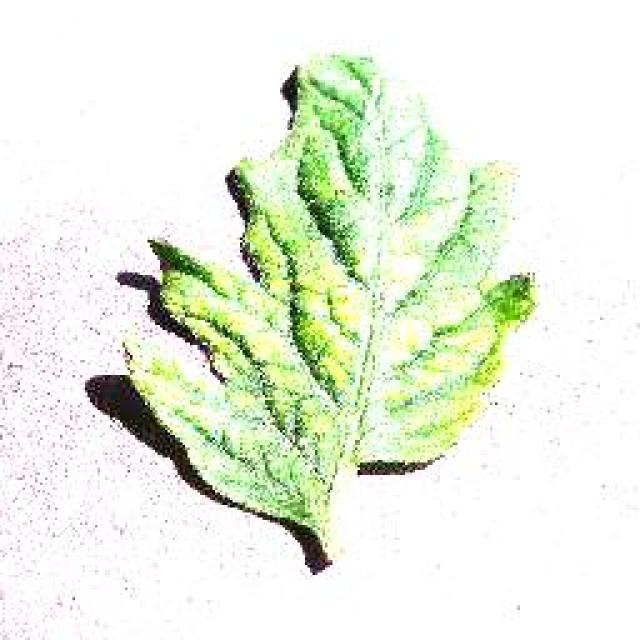Tomato___Tomato_mosaic_virus: (122, 52, 535, 558)
